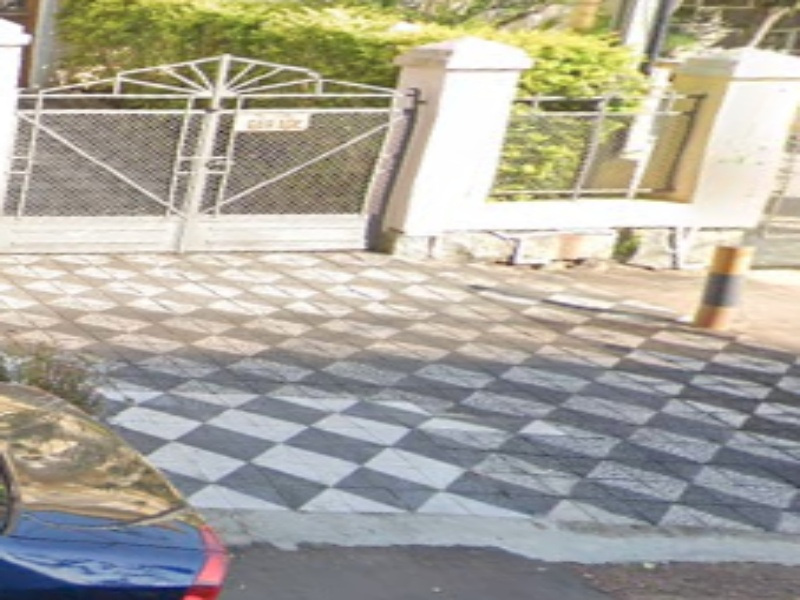v26: (233, 458, 800, 600)
